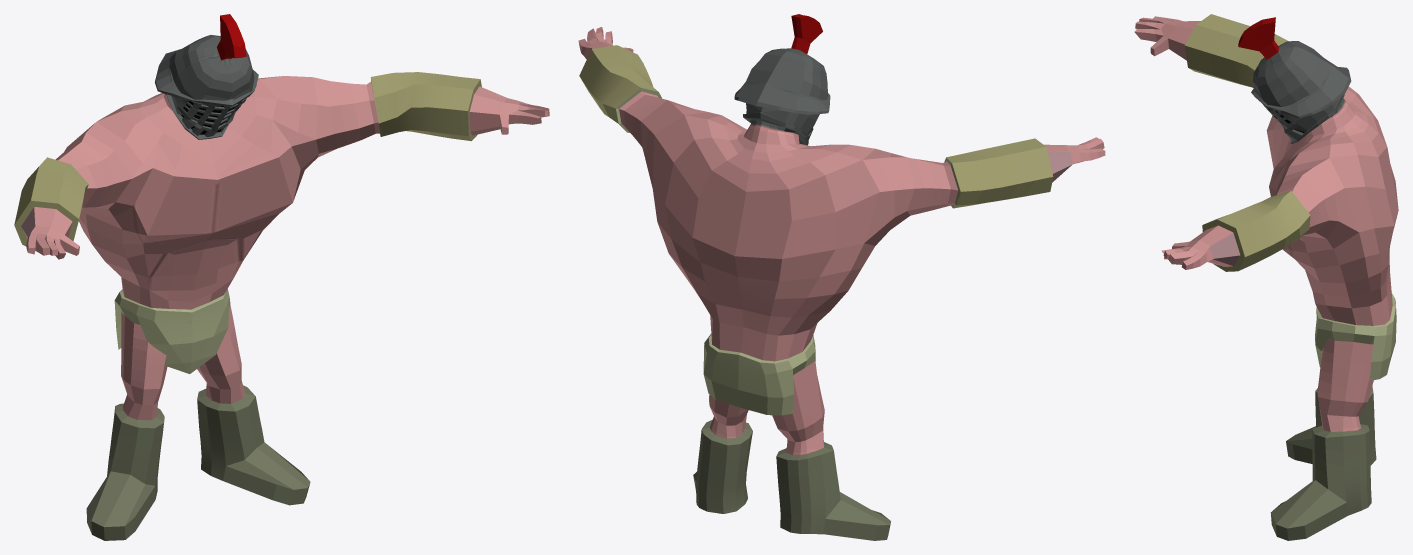
Rendered from GladiatorCelebracion_000529.obj.
3 views of the same model, side by side, from view 1: azimuth 30°, elevation 25°; view 2: azimuth 150°, elevation 25°; view 3: azimuth 270°, elevation 25° (orthographic). The views are drawn at different scales.
Visible parts, largest first — view 1: Gadiador_Gladiador_H; view 2: Gadiador_Gladiador_H; view 3: Gadiador_Gladiador_H.
Boxes of the visible parts, x1,y1,x2,y2 form: Gadiador_Gladiador_H: (14,14,549,540); Gadiador_Gladiador_H: (578,14,1105,540); Gadiador_Gladiador_H: (1134,14,1398,540).
Bounding box in the file's own units: 7.98 × 7.25 × 3.61.
Materials: 1 (1 with a texture image).
